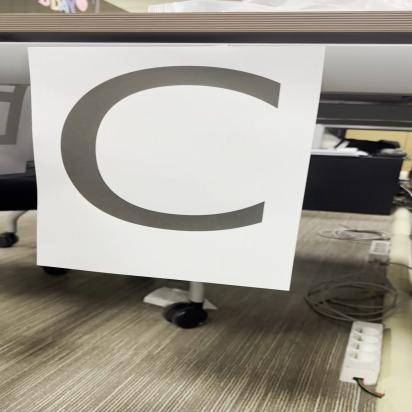seat: (37, 50, 320, 290)
